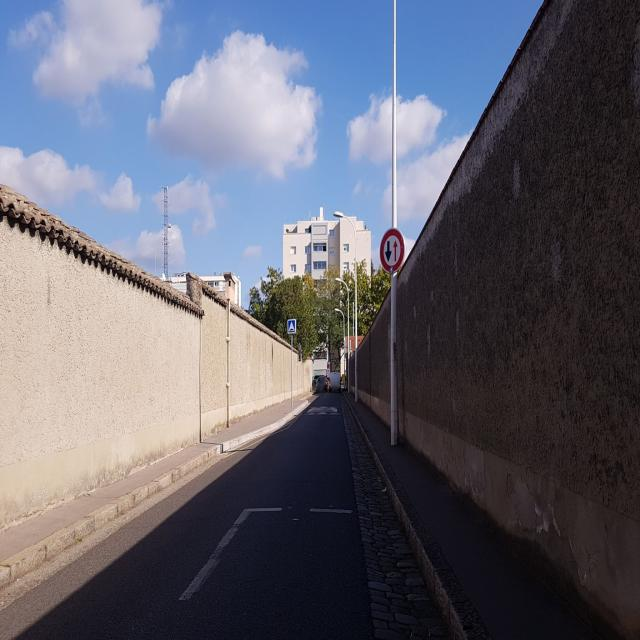car: (312, 372, 330, 394)
